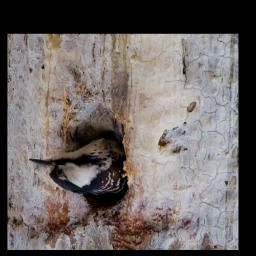Woodpecker: (29, 135, 125, 199)
